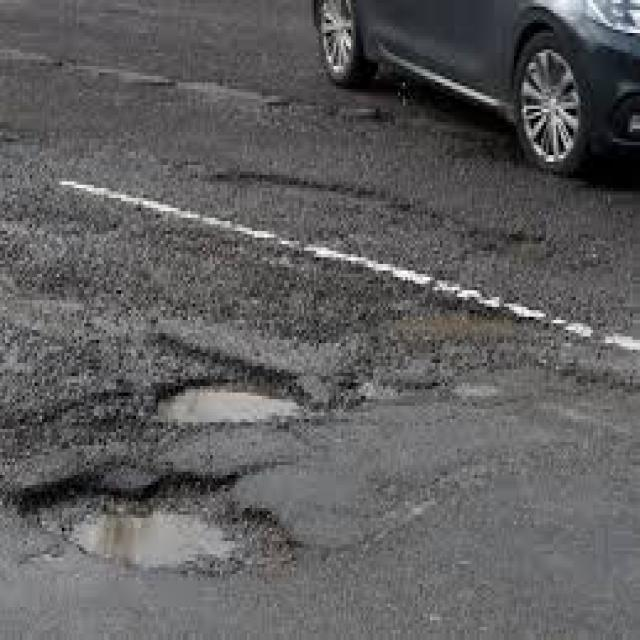Pothole: (20, 488, 287, 574), (161, 393, 294, 426)
